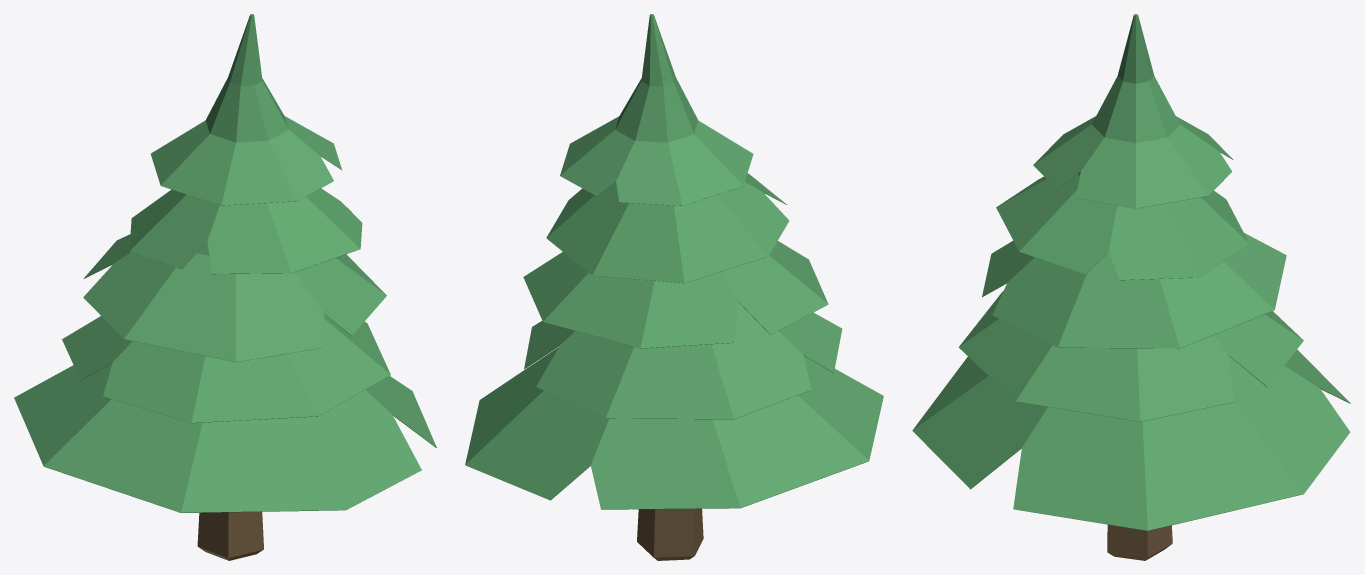
The model's file is Tree_06.fbx.
3 views of the same model, side by side, from view 1: azimuth 30°, elevation 25°; view 2: azimuth 150°, elevation 25°; view 3: azimuth 270°, elevation 25° (orthographic). The views are drawn at different scales.
Parts seen in each view (by area): view 1: Tree_06; view 2: Tree_06; view 3: Tree_06.
Boxes of the visible parts, <box> form: Tree_06: <box>14,14,436,560</box>; Tree_06: <box>465,14,883,560</box>; Tree_06: <box>912,14,1350,560</box>.
Size of the model in its own units: 251 by 336 by 245.
